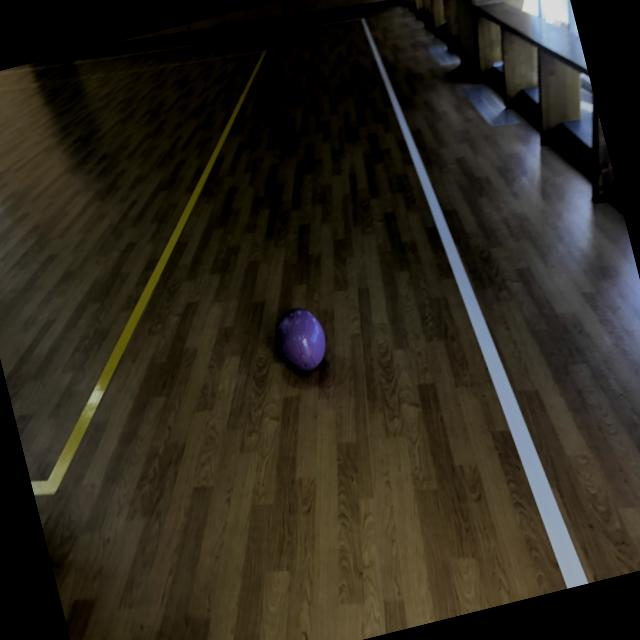purple_ball: (271, 304, 331, 374)
